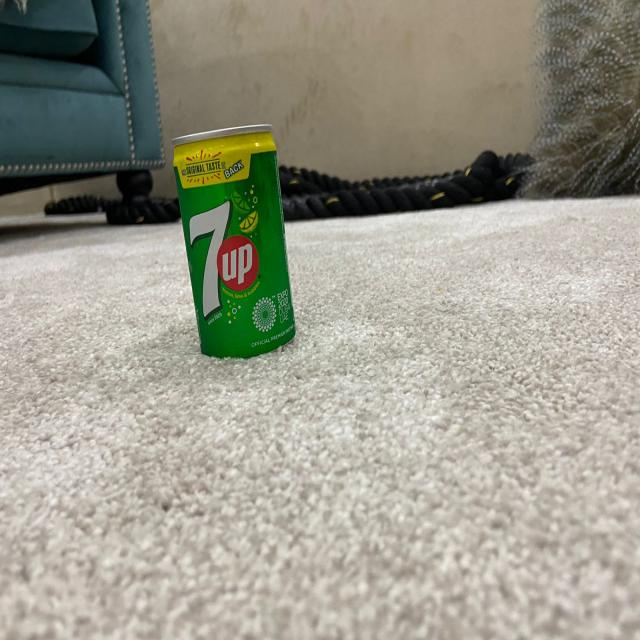non-organic waste: (172, 123, 299, 360)
